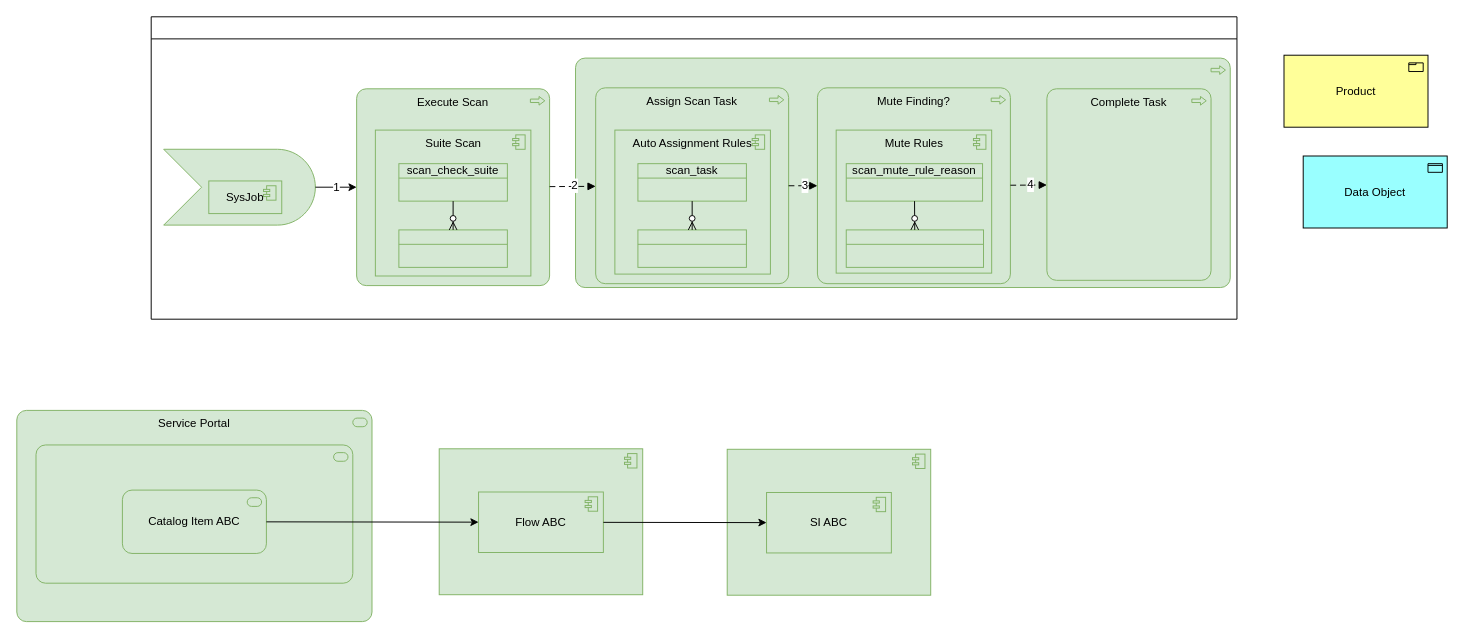
This 1464x638 diagram has some shape labels left out. The shapes that lost their labels are listed below. From the top down, each one's box as (x1, y1, x2, y2) in pixels, then its label:
(163, 148, 315, 225): Event: Time
(150, 16, 1237, 319): ServiceNow
(575, 57, 1230, 288): Process Scan Task
(398, 229, 507, 267): scan_check
(637, 229, 746, 267): scan_finding
(845, 229, 984, 267): scan_mute_rule
(35, 444, 353, 583): Digital Catalog
(438, 448, 643, 595): Flow Designer
(726, 448, 931, 595): Script Include
